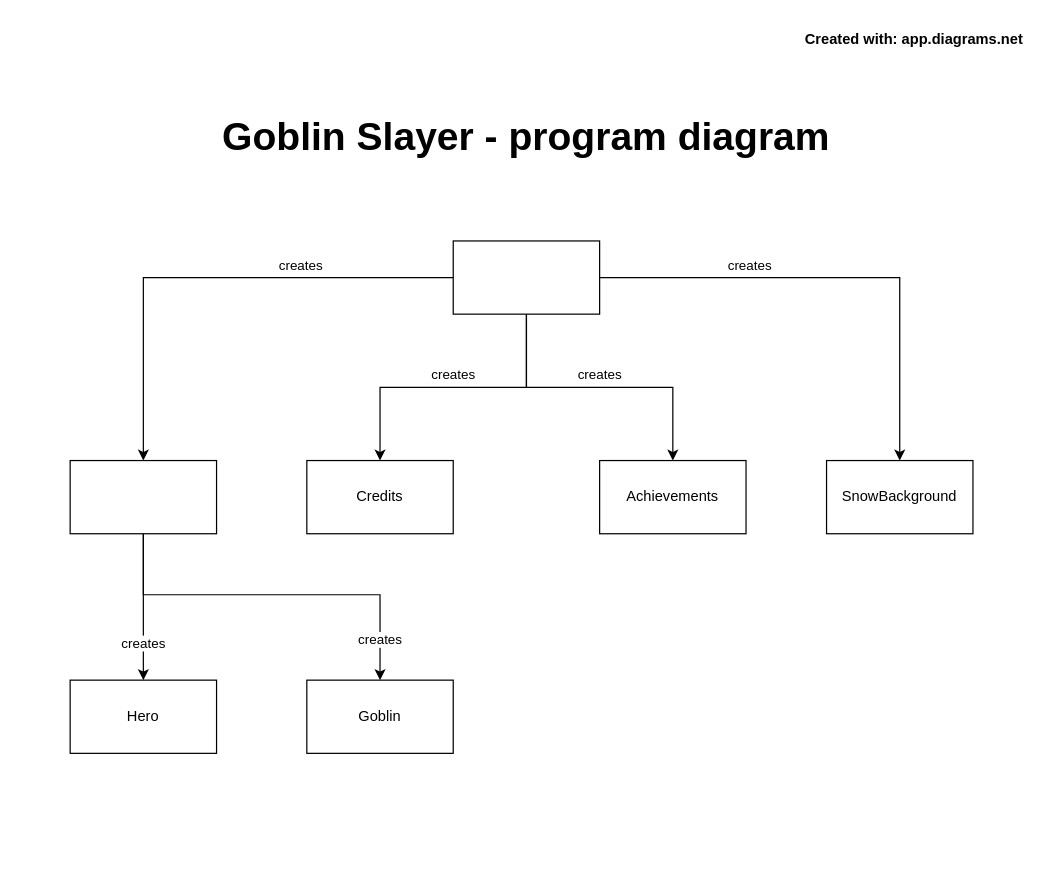
Some shapes in this 1050 by 883 pixel diagram are drawn without their labels. The centre of each missing label's shape, as x and y in pixels:
Game: (x=143, y=496)
Menu: (x=526, y=277)
